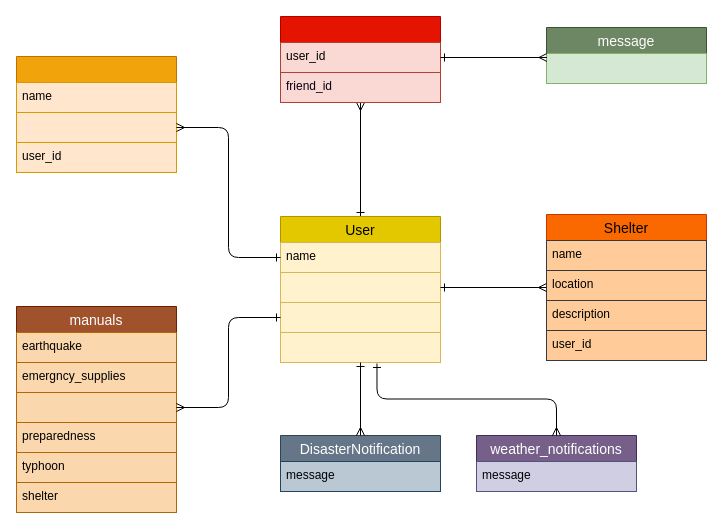
The diagram is 723 pixels wide and 529 high, and some of its shapes have lost their labels. The box of each missing label's shape, as (x1, y1, x2, y2) in pixels:
email: (280, 272, 440, 302)
encrypted_password: (280, 302, 440, 332)
expiration_date: (16, 112, 176, 142)
Friendship: (280, 16, 440, 102)
injury: (16, 392, 176, 422)
last_login_at: (280, 332, 440, 362)
Supply: (16, 56, 176, 172)
text: (546, 52, 706, 84)
